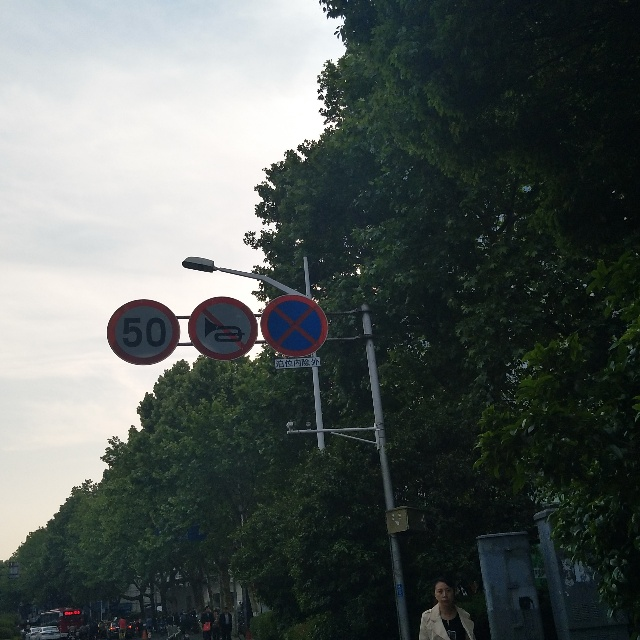nohonk: (188, 297, 258, 361)
stop: (261, 295, 328, 356)
